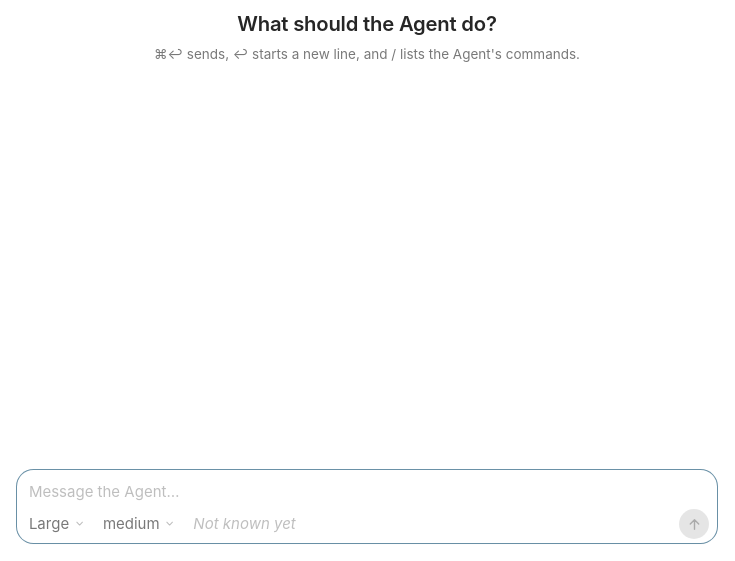
Test: an open picker › asks for nothing when the current value is chosen again
Click the dropdown named "Effort" at {"x": 139, "y": 524}, box top-left (95, 510), bottom-right (183, 538)
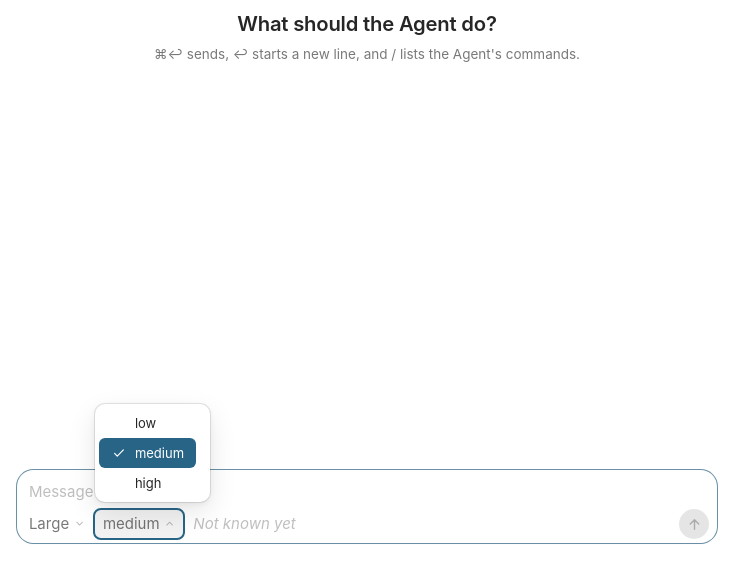
Click the option "medium" at {"x": 148, "y": 453}, box top-left (99, 438), bottom-right (196, 468)
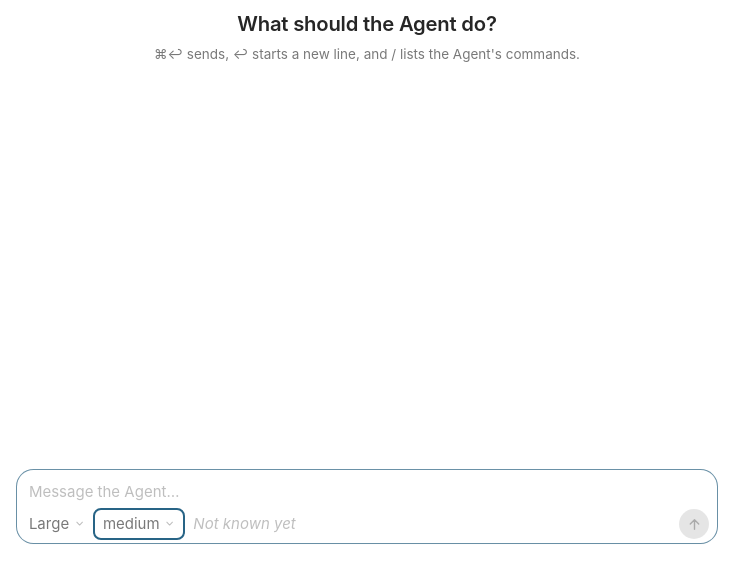
Expected: the list is gone
